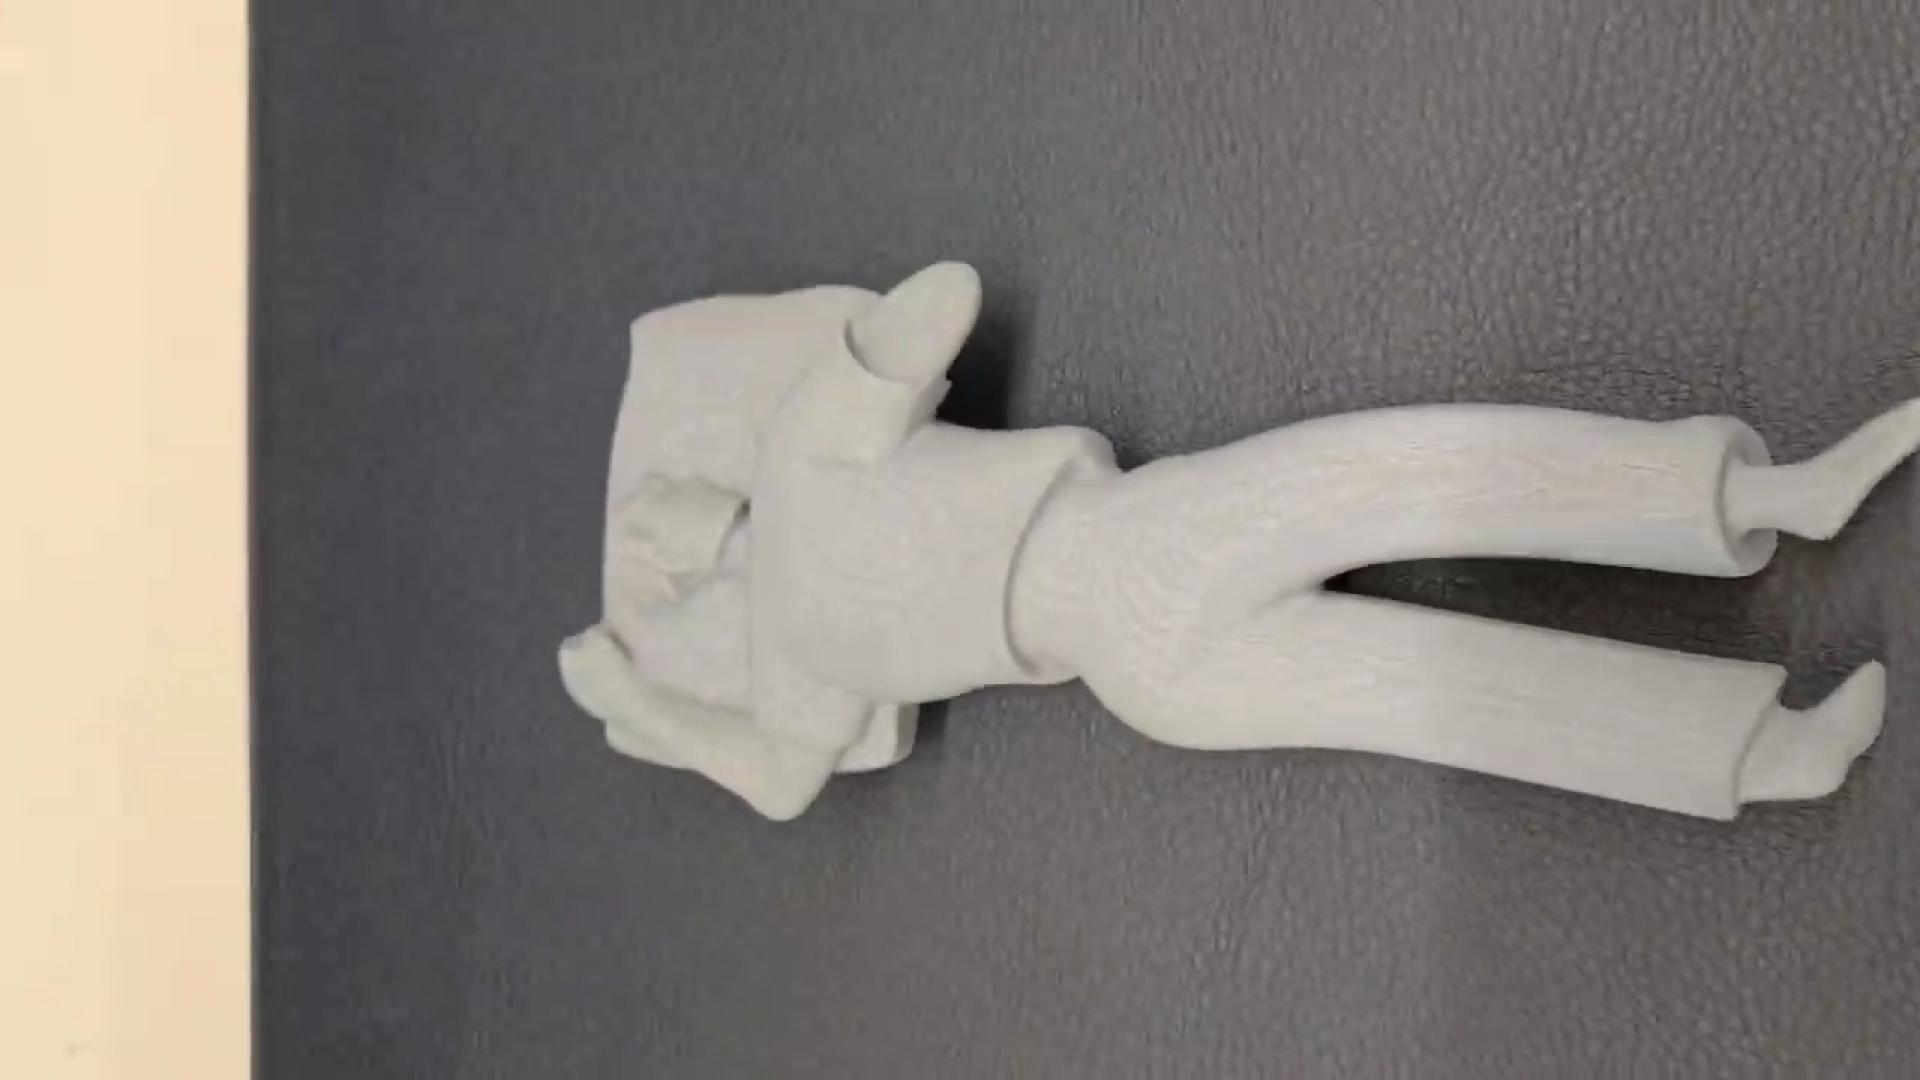Bad-style: (550, 257, 1920, 836)
